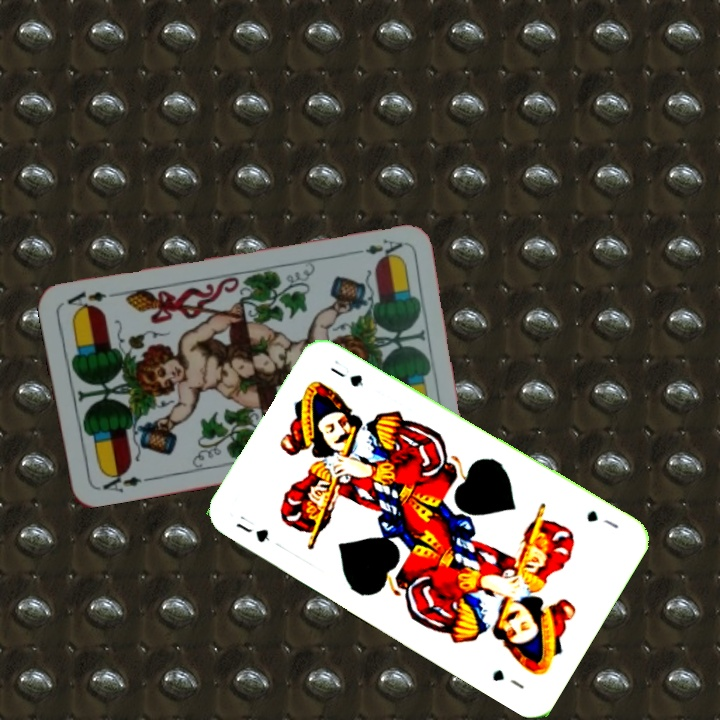EA: (92, 466, 151, 495), (347, 235, 405, 263)
GU: (231, 511, 272, 546), (582, 506, 621, 532)
